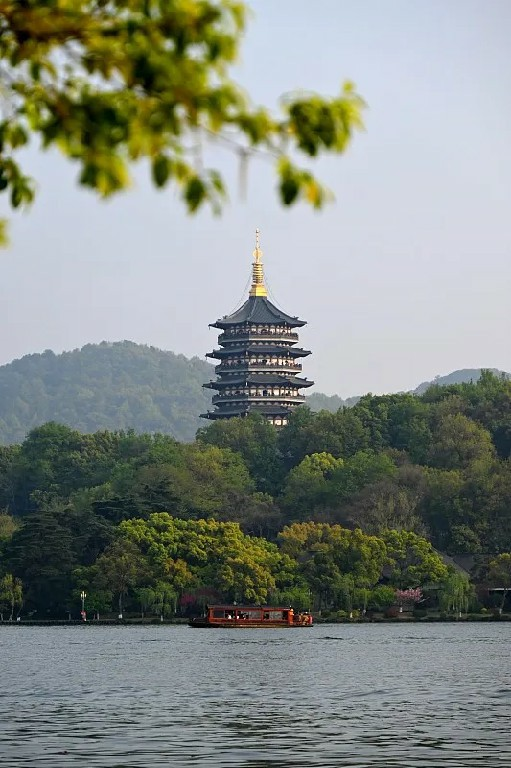Leifeng: (193, 225, 319, 431)
